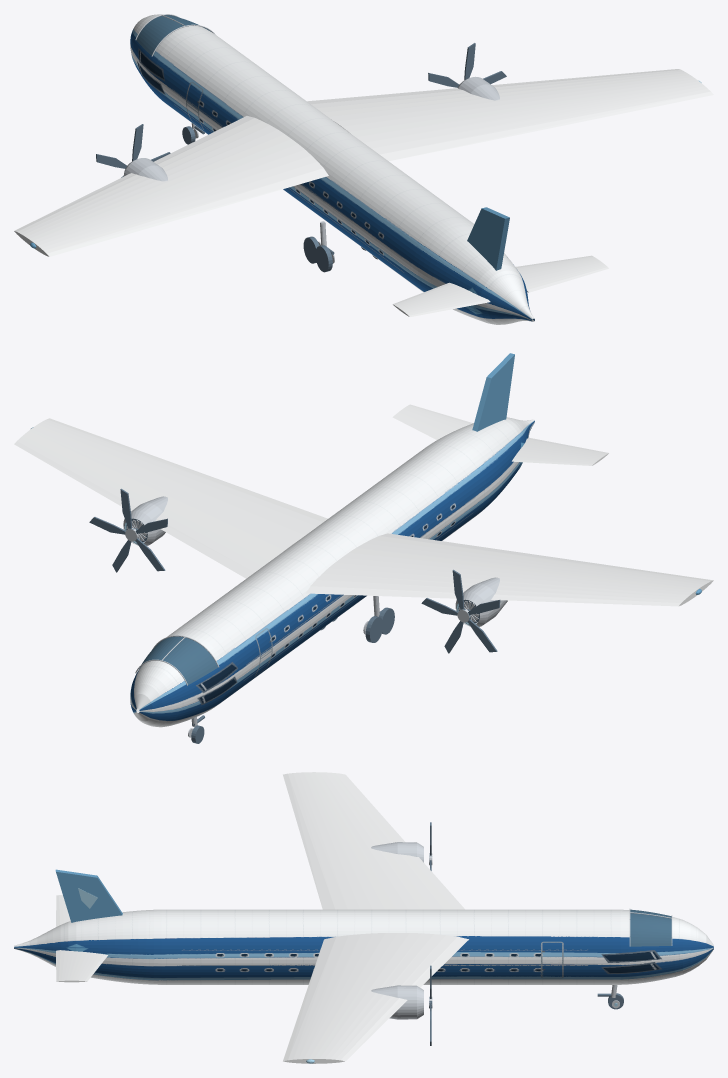
File: 03_regional_turboprop.glb
The picture shows the model from 3 angles, top to bottom: view 1: azimuth 30°, elevation 25°; view 2: azimuth 150°, elevation 25°; view 3: azimuth 270°, elevation 25°; orthographic projection. The views are drawn at different scales.
Visible parts, largest first — view 1: body-details, textured_airframe, accent-details, metal-details, glass-details, landing_gear_dark, propeller_right, propeller_left; view 2: body-details, textured_airframe, metal-details, glass-details, accent-details, propeller_left, propeller_right, landing_gear_dark; view 3: textured_airframe, body-details, accent-details, metal-details, glass-details.
Boxes of the visible parts, x1,y1,x2,y2 form: body-details: (14, 69, 713, 316); textured_airframe: (130, 14, 534, 324); accent-details: (30, 207, 509, 270); metal-details: (123, 14, 499, 181); glass-details: (136, 15, 210, 55); landing_gear_dark: (182, 126, 377, 272); propeller_right: (428, 43, 506, 87); propeller_left: (96, 124, 170, 177); body-details: (14, 404, 713, 606); textured_airframe: (130, 417, 534, 727); metal-details: (123, 496, 507, 685); glass-details: (141, 636, 218, 684); accent-details: (472, 353, 701, 594); propeller_left: (421, 569, 500, 653); propeller_right: (89, 488, 167, 572); landing_gear_dark: (191, 607, 394, 743); textured_airframe: (14, 909, 713, 984); body-details: (56, 772, 468, 1063); accent-details: (55, 869, 122, 922); metal-details: (371, 842, 672, 1019); glass-details: (630, 909, 671, 946).
Size of the model in its own units: 31.76 by 7.21 by 32.5.
11 materials, 1 textured.
